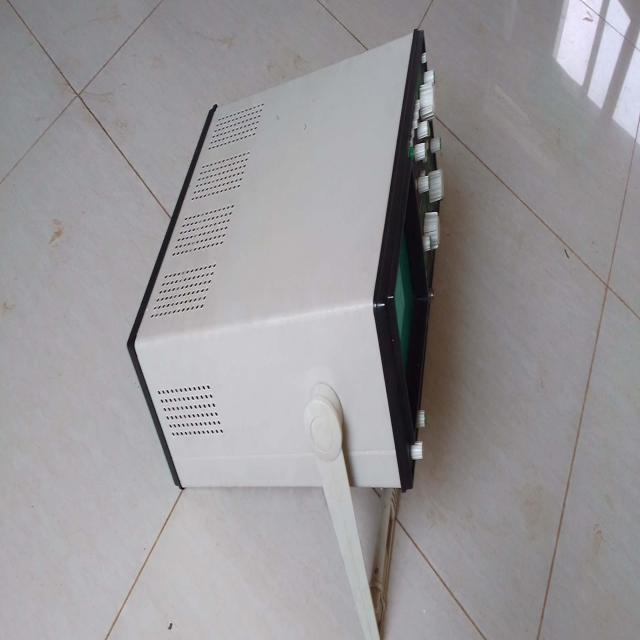Cathode Ray Oscilloscope: (125, 18, 446, 557)
